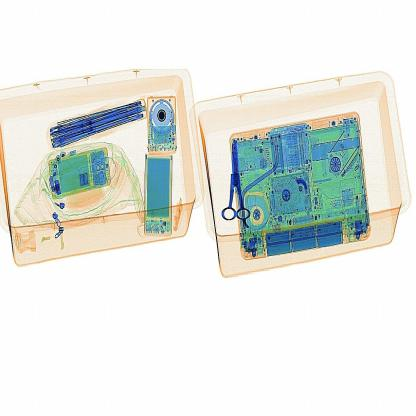gun: (219, 132, 252, 229)
